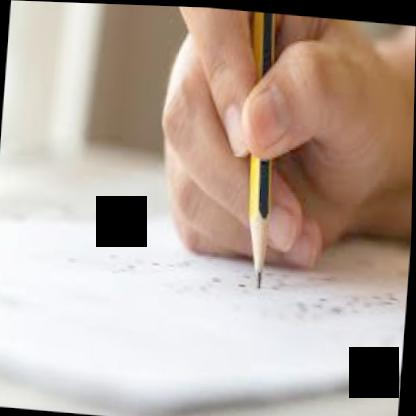pencil: (245, 15, 280, 297)
